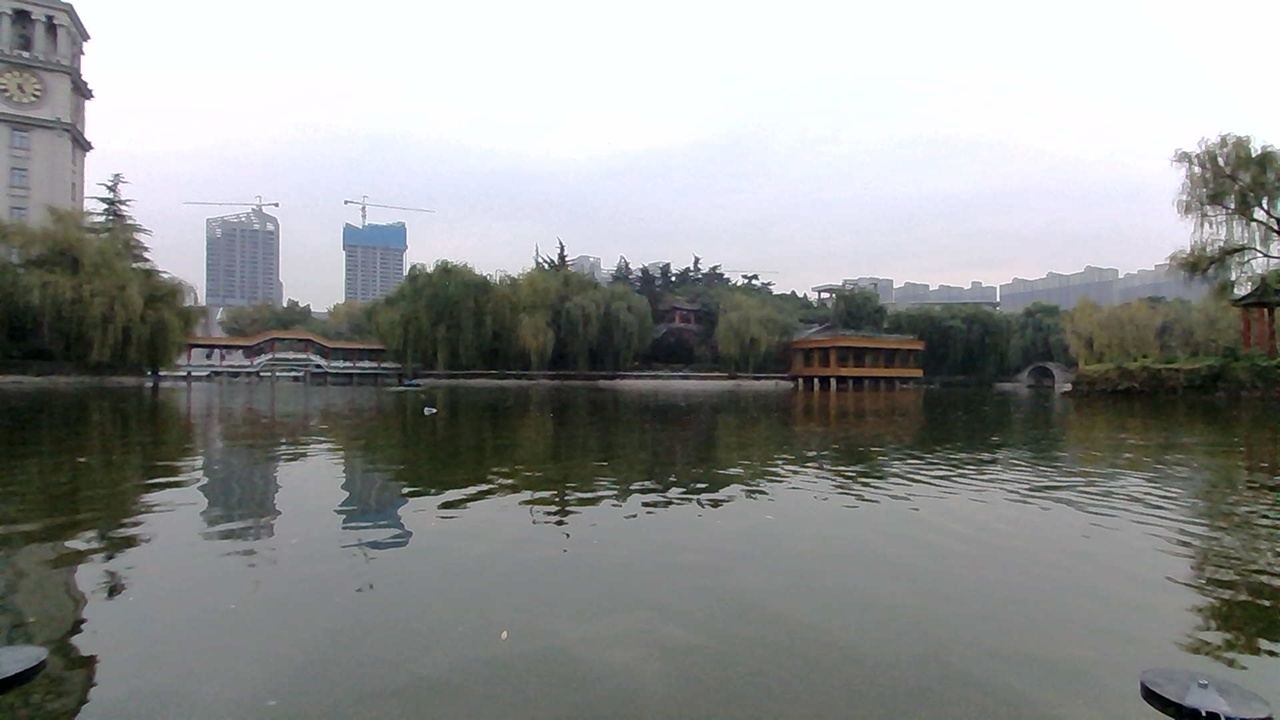bottle: (412, 397, 457, 421)
